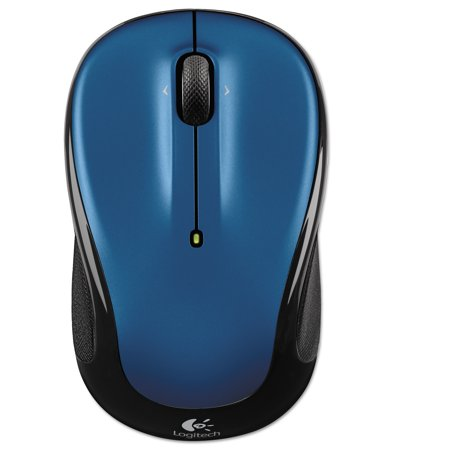Mouse: (53, 6, 342, 446)
